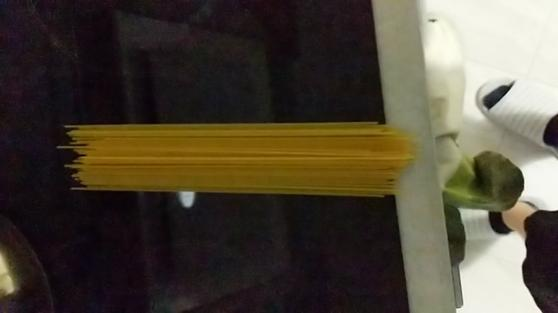spaghetti: (53, 109, 428, 208)
